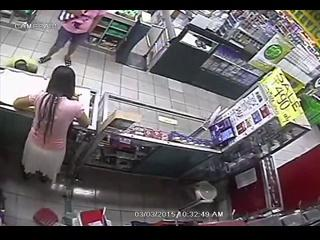Normal: (13, 66, 90, 190), (38, 11, 106, 66)
